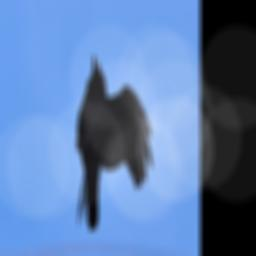Crow: (62, 49, 159, 234)
